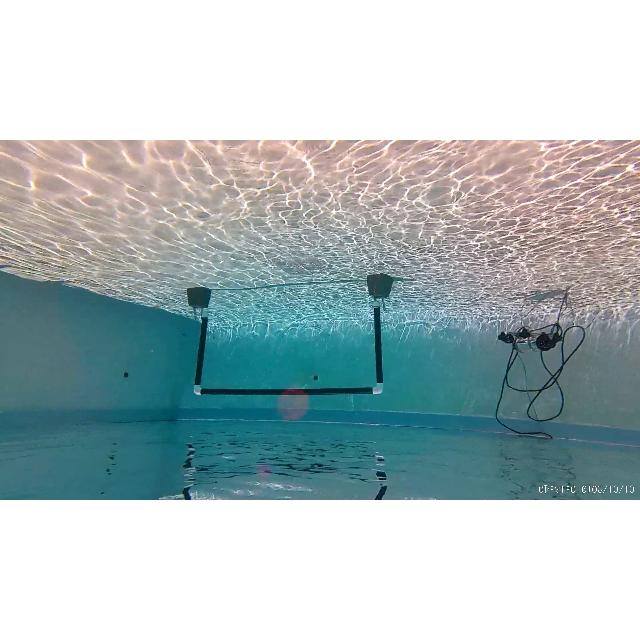prequal gate: (190, 300, 386, 396)
prequal gate leg l: (358, 272, 396, 400)
prequal gate leg r: (184, 284, 216, 402)
